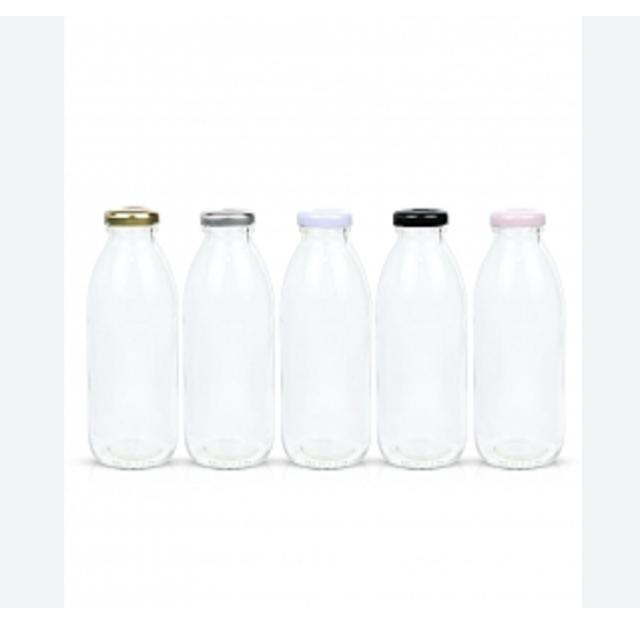recyclable: (78, 226, 183, 481), (176, 224, 276, 481), (373, 226, 475, 477), (278, 227, 375, 476), (473, 224, 567, 470)
